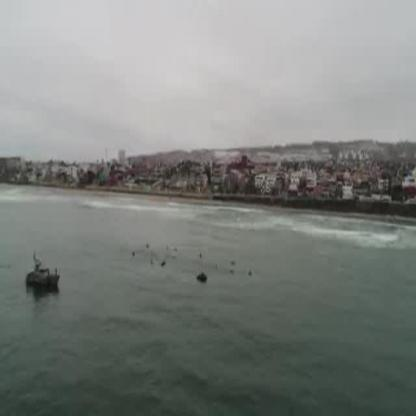Boat: (21, 255, 69, 301)
